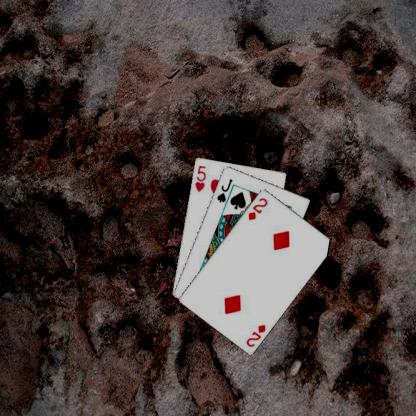2D: (246, 195, 268, 221), (244, 322, 266, 348)
5H: (192, 162, 207, 193)
JS: (214, 176, 234, 204)
